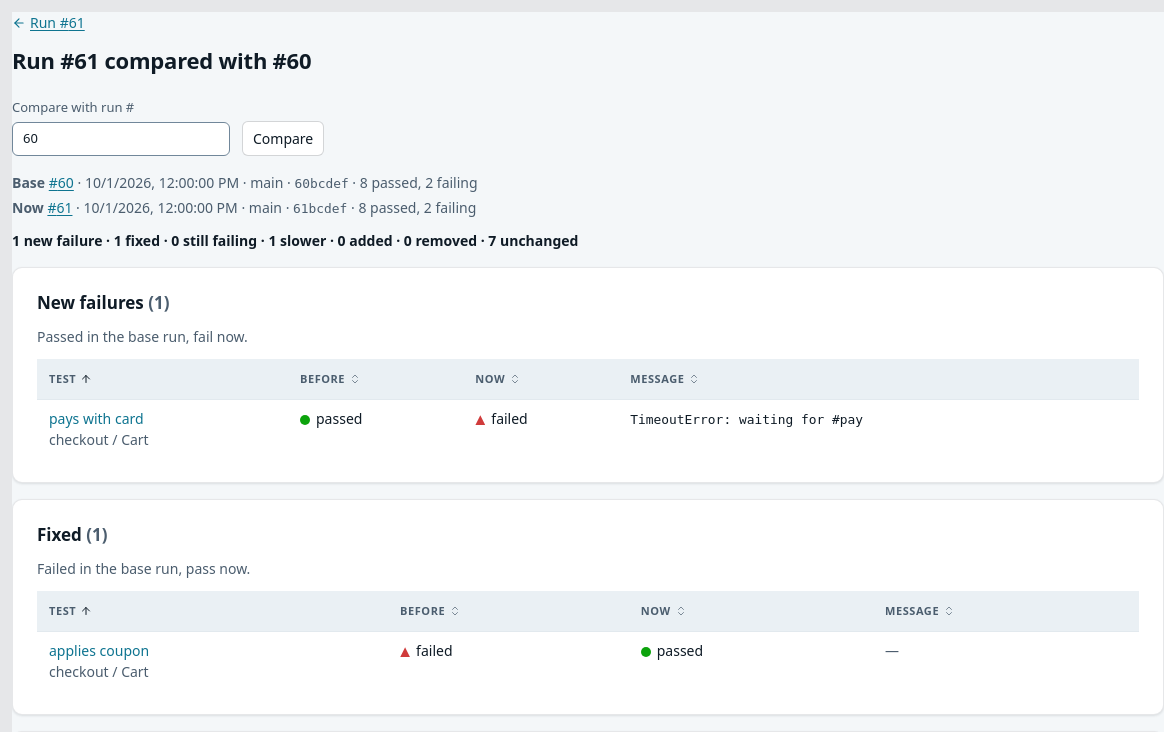
another base run can be chosen
Replace the text in the number field labelled "Compare with run #" with "55" at (121, 138), box [12,122,230,156]
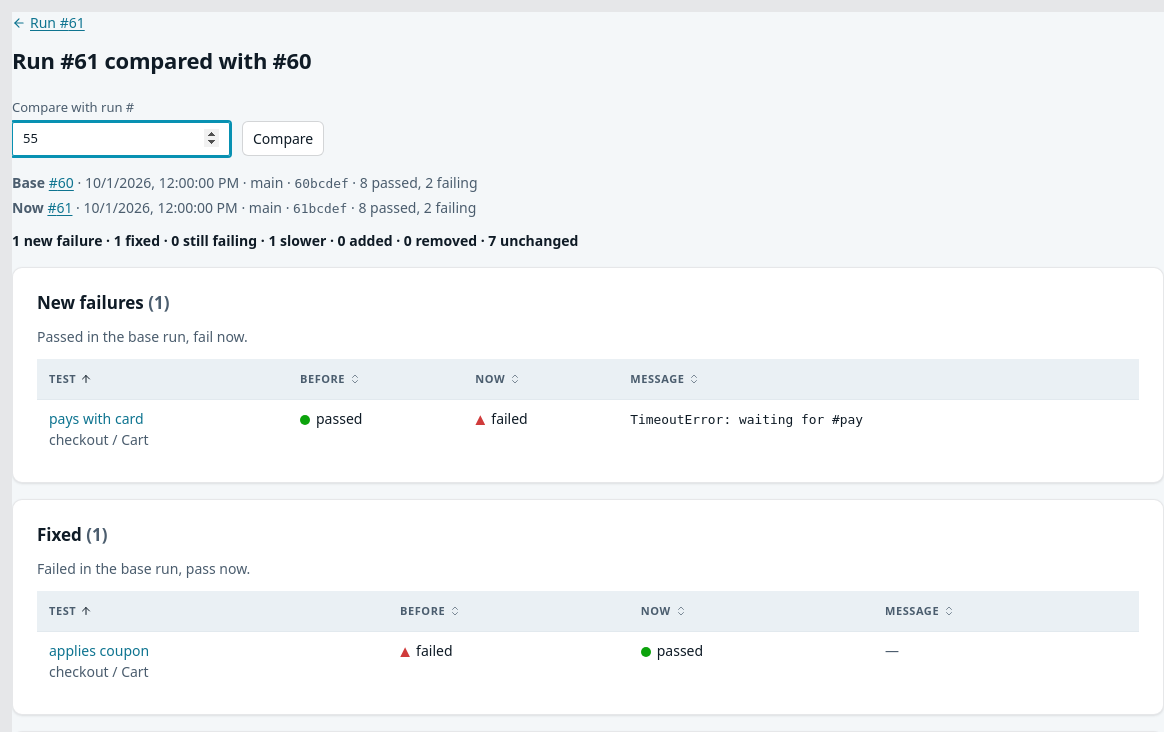
Click the button "Compare" at (283, 138), box [242,120,324,156]
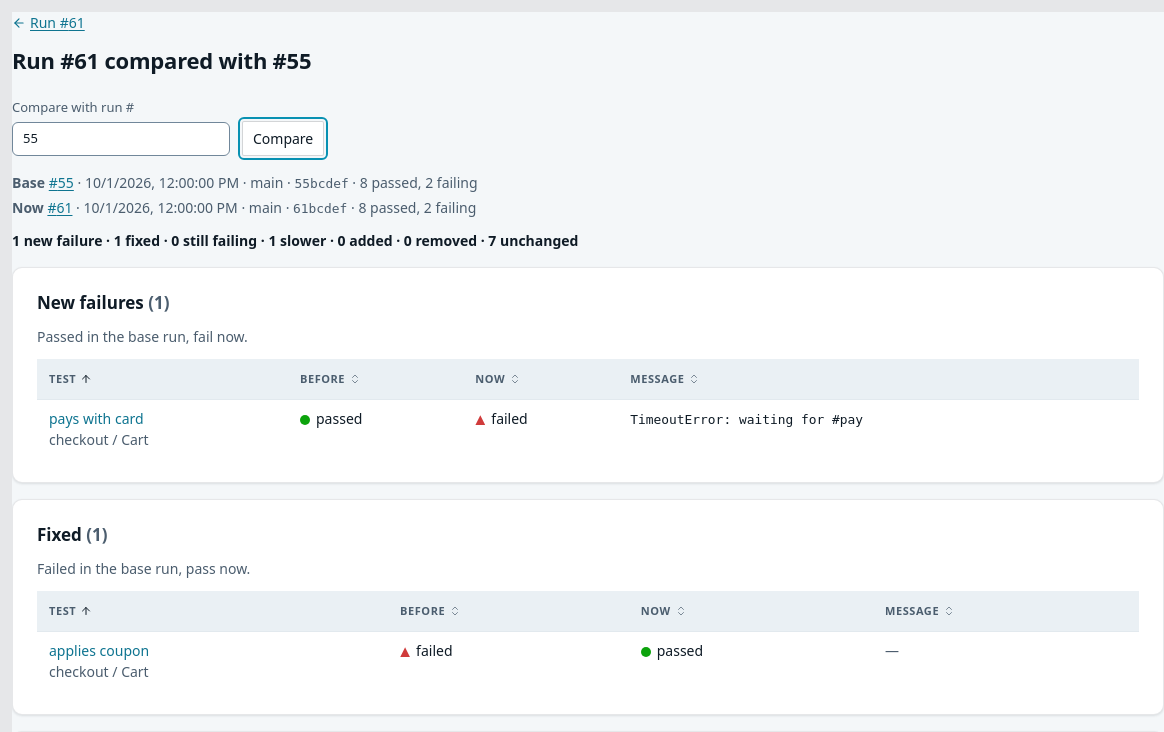
Check: the heading "Run #61 compared with #55" is shown, box [12,46,311,74]
